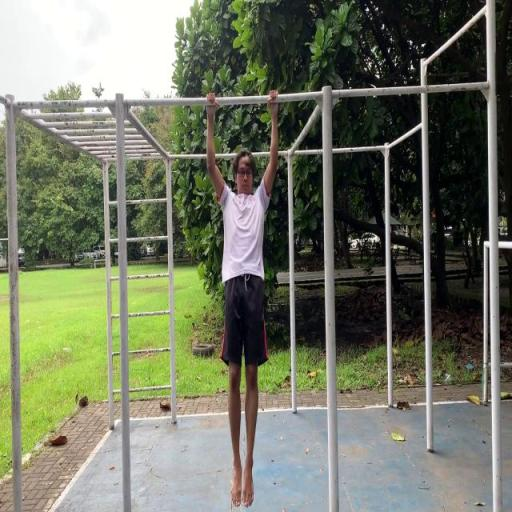Normal_BrenchPress: (205, 88, 281, 510)
